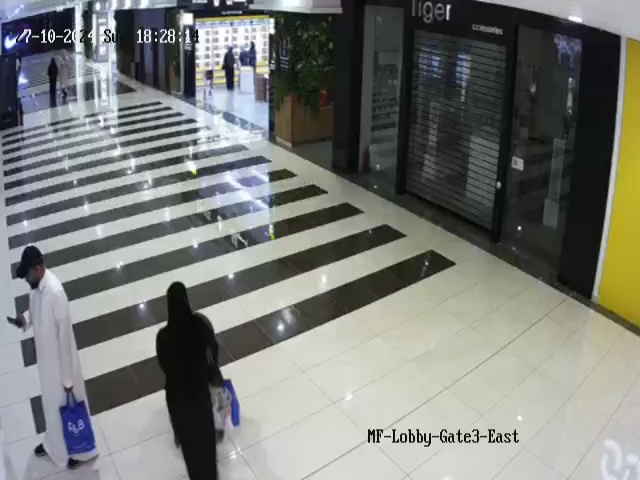female: (156, 275, 227, 474), (222, 44, 235, 91), (247, 34, 261, 69), (47, 57, 58, 95)
male: (9, 245, 100, 470)
